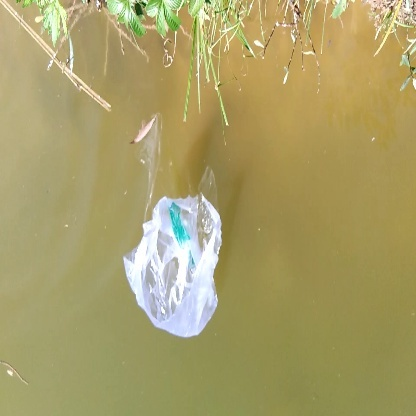plastic-bag: (117, 191, 241, 343)
